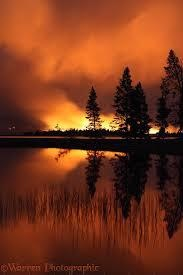fire: (42, 105, 123, 131)
